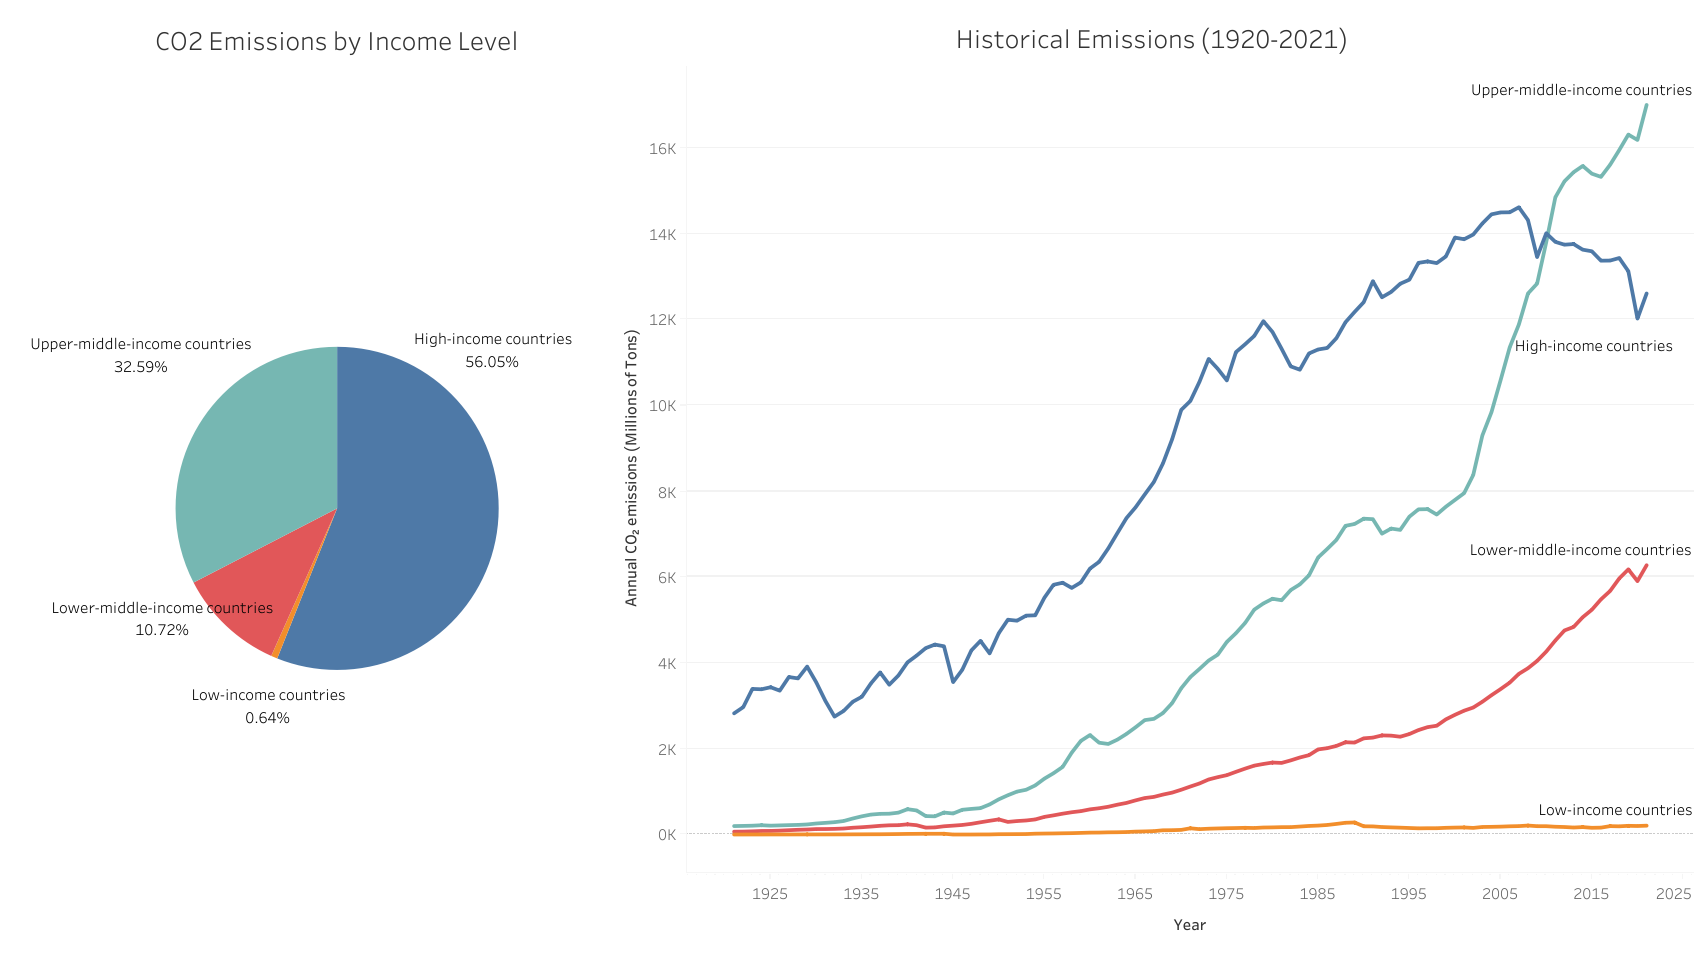

What the dashboard file says about the page in this screenshot:
{"tool":"tableau","page":{"name":"Dashboard 1","canvas":[1366,768],"ordinal":0},"visuals":[{"type":"worksheet","title":"Sheet 1","mark":"Line","rows":["Annual CO₂ emissions (Millions of Tons)"],"cols":["Year"],"box":[484,6,875,753]},{"type":"worksheet","title":"Sheet 2","mark":"Pie","box":[7,8,525,754]}]}

Visuals, with their boxes in screenshot pixels (x1, y1, x2, y2), scaled from the page's 1366x768 canvas onto the 1706x959 screenshot:
"Sheet 1" worksheet (Line marks): 604 7 1697 948
"Sheet 2" worksheet (Pie marks): 9 10 664 952
